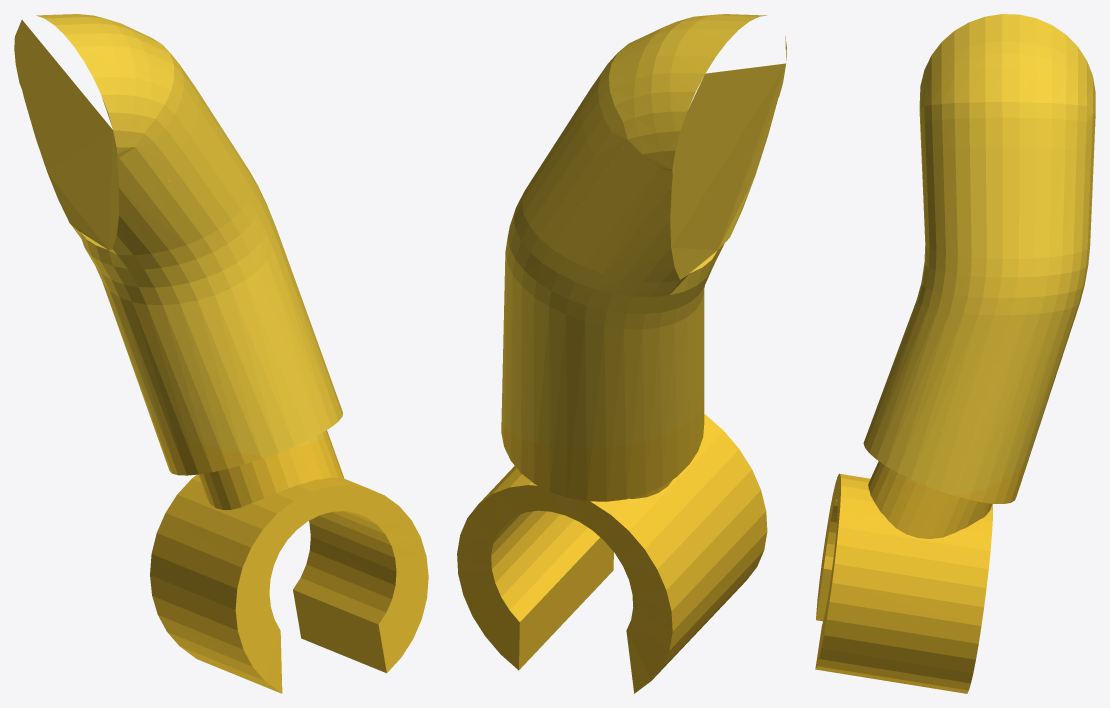
The model's file is armR.glb.
3 renders of one model, left to right at view 1: azimuth 30°, elevation 25°; view 2: azimuth 150°, elevation 25°; view 3: azimuth 270°, elevation 25°, orthographic. The views are drawn at different scales.
Visible parts, largest first — view 1: pip_armR; view 2: pip_armR; view 3: pip_armR.
Part boxes in pixels (bbox=[...]): pip_armR: bbox=[14, 14, 428, 693]; pip_armR: bbox=[457, 14, 786, 693]; pip_armR: bbox=[815, 14, 1095, 693].
Size of the model in its own units: 0.325 by 0.7369 by 0.322.
